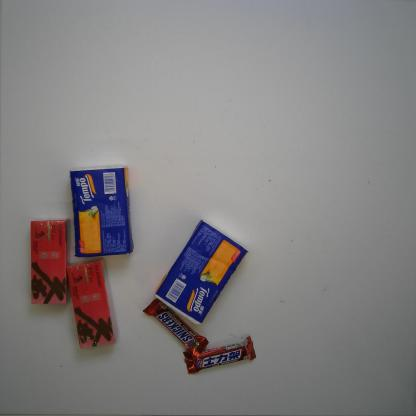Chocolate: (142, 298, 210, 352), (183, 334, 257, 376)
Instant Drink: (66, 256, 120, 350), (29, 217, 72, 306)
Tissue: (154, 217, 250, 326), (68, 163, 134, 259)
